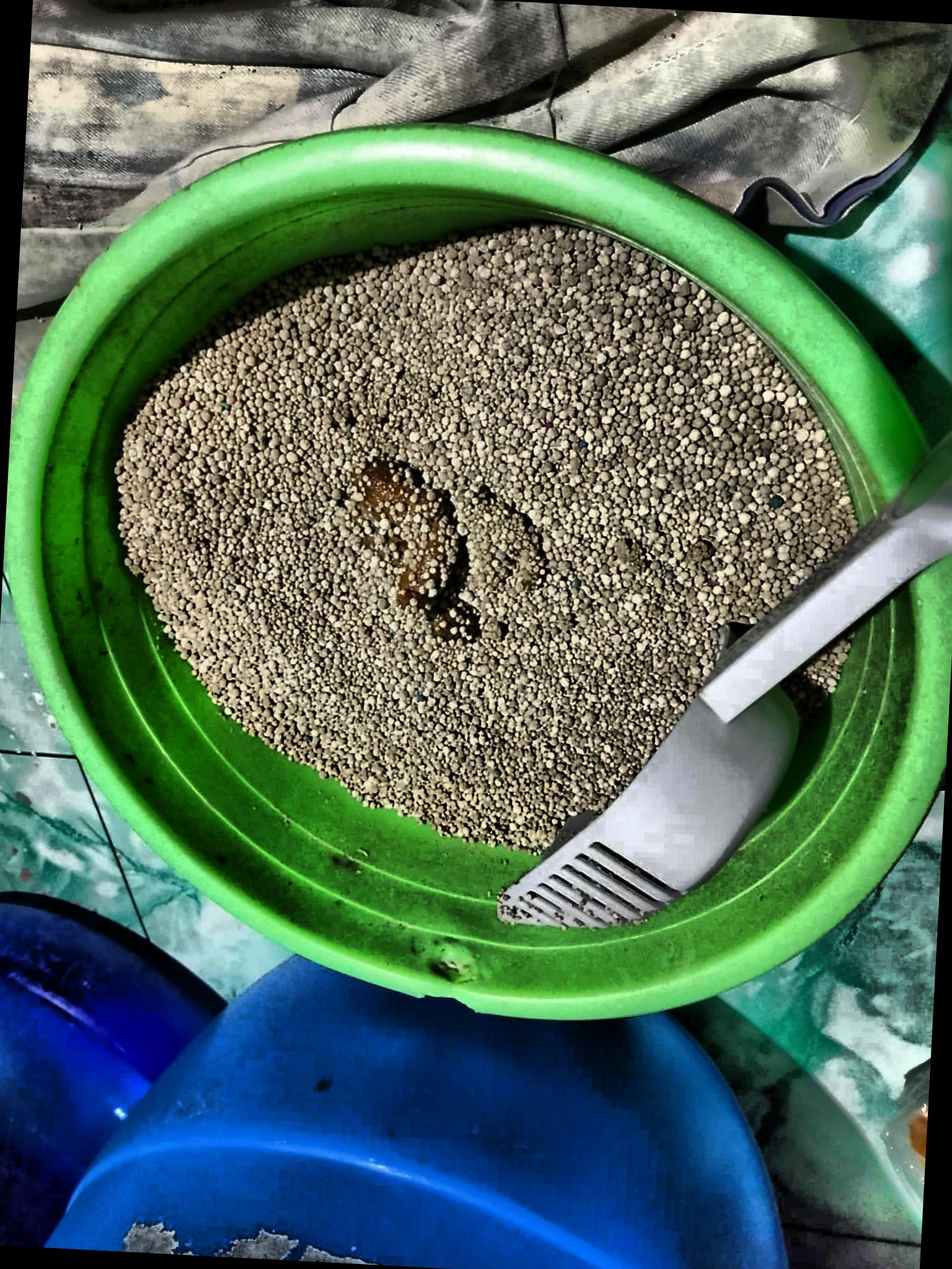poop: (357, 461, 456, 609), (459, 493, 544, 621), (431, 604, 478, 642)
